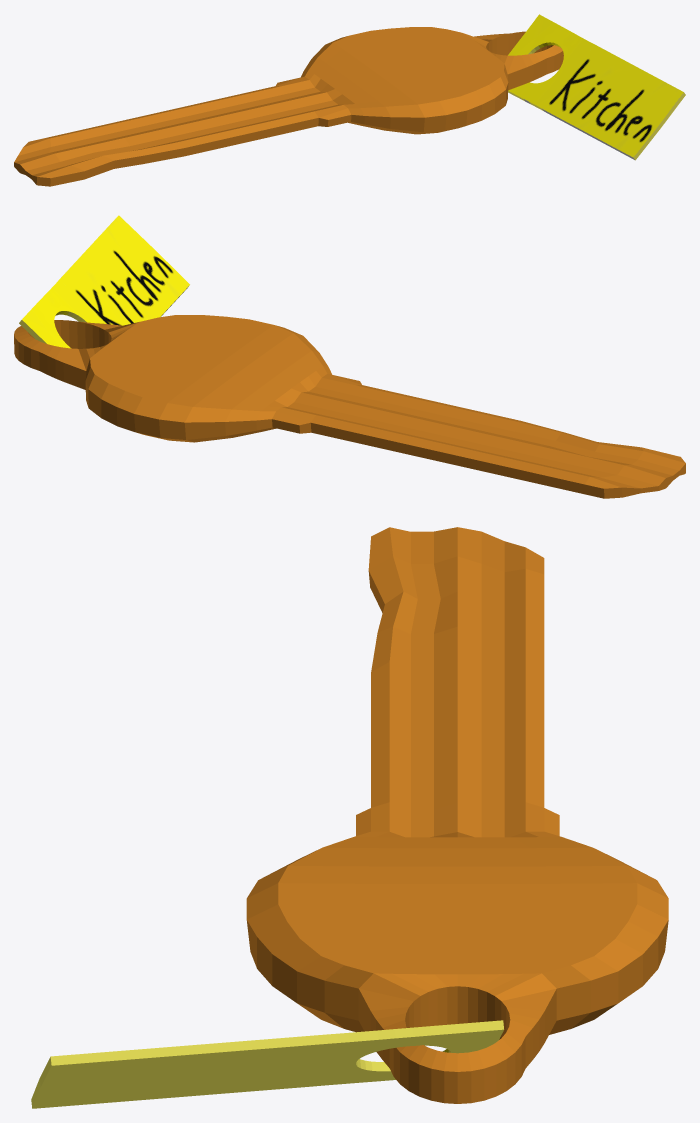
The model's file is FinishedKey.fbx.
3 views of the same model, one above another, from view 1: azimuth 30°, elevation 25°; view 2: azimuth 150°, elevation 25°; view 3: azimuth 270°, elevation 25° (orthographic). The views are drawn at different scales.
Parts seen in each view (by area): view 1: Circle, Circle.001; view 2: Circle, Circle.001; view 3: Circle, Circle.001.
Boxes of the visible parts, bbox=[...] form: Circle: bbox=[14, 27, 563, 186]; Circle.001: bbox=[508, 14, 685, 160]; Circle: bbox=[14, 315, 685, 498]; Circle.001: bbox=[19, 215, 189, 348]; Circle: bbox=[246, 527, 668, 1103]; Circle.001: bbox=[31, 1020, 503, 1108].
Size of the model in its own units: 130 by 12.03 by 63.46.
Materials: 2 (1 with a texture image).
